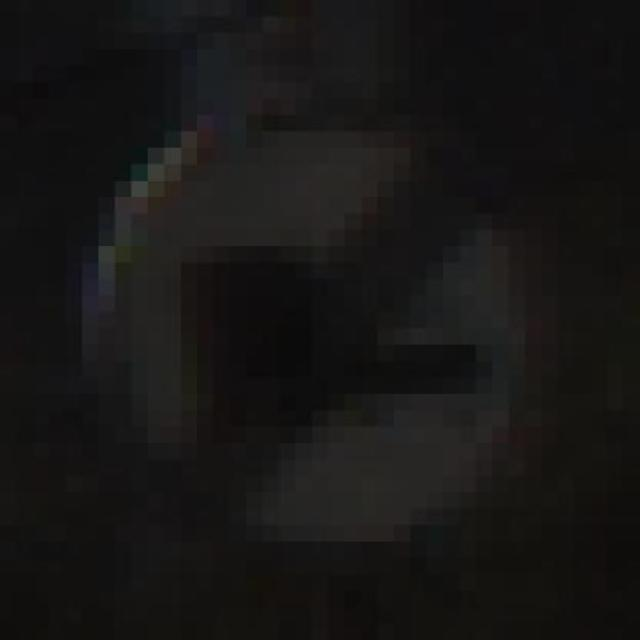Overtaking by trucks is prohibited: (48, 66, 574, 574)
